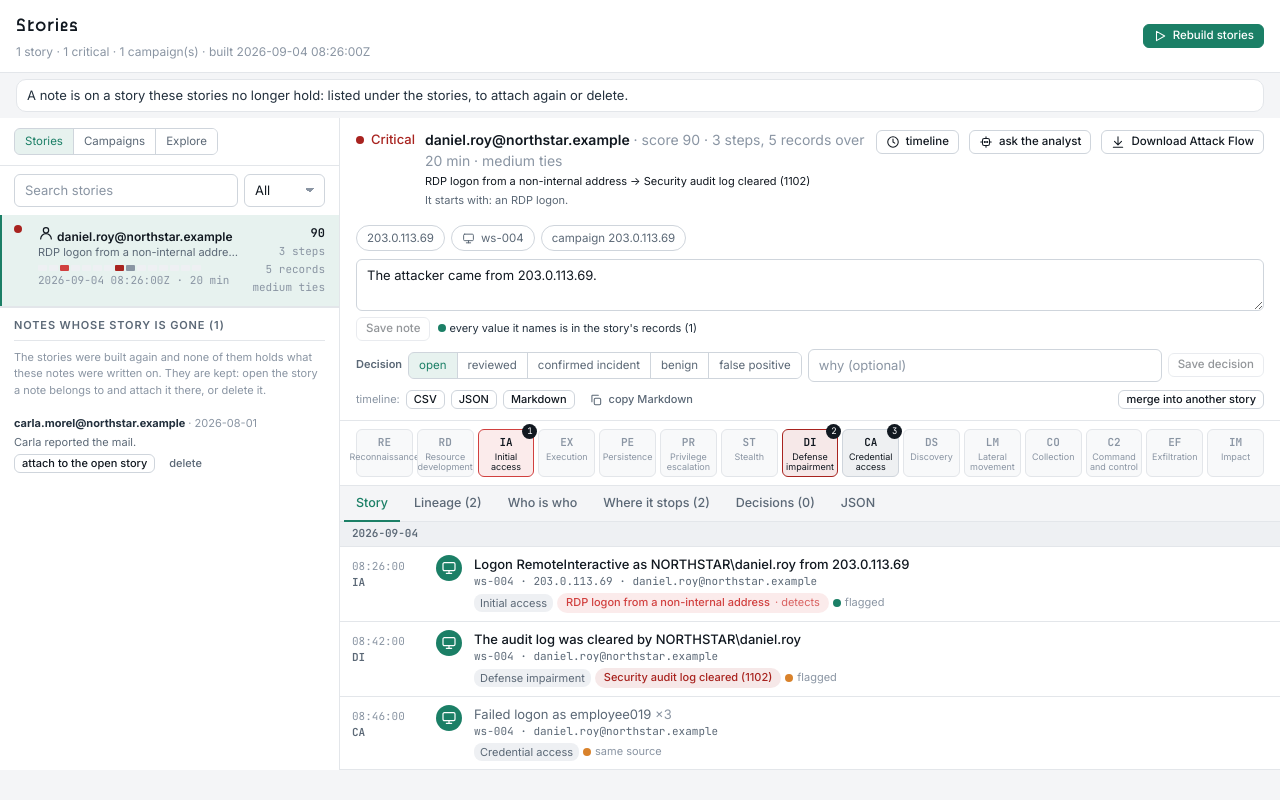
Test: notes on stories › finds a note again on a story new evidence renamed, shows its check, and lists a note whose story is gone until it is attached
The image size is (1280, 800).
Expected: the text box named "Story note" holds "The attacker came from 203.0.113.69.", [356, 259, 1264, 311]
Expected: the text "every value it names is in the story's records (1)" is shown, [438, 321, 697, 337]
Click the button "attach to the open story": (85, 464) [14, 454, 155, 474]
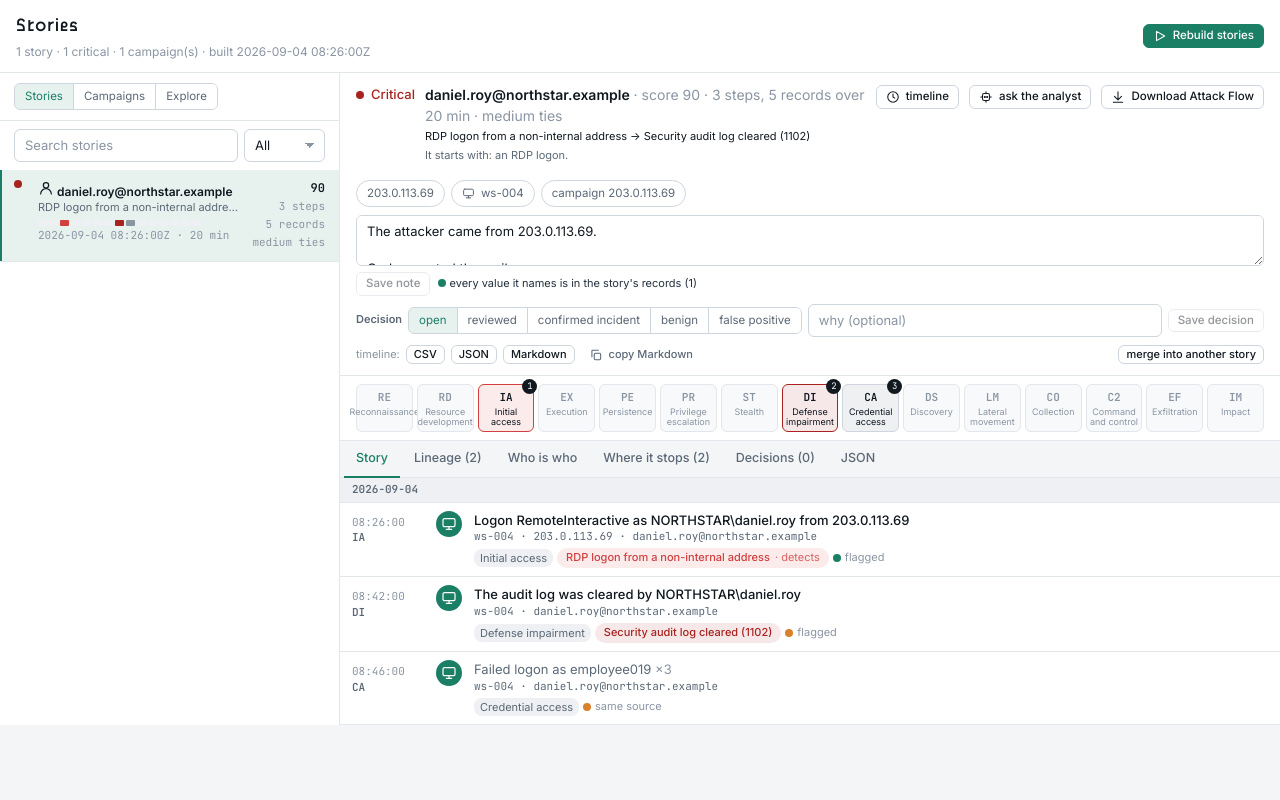
Expected: the heading "Notes whose story is gone" is gone
